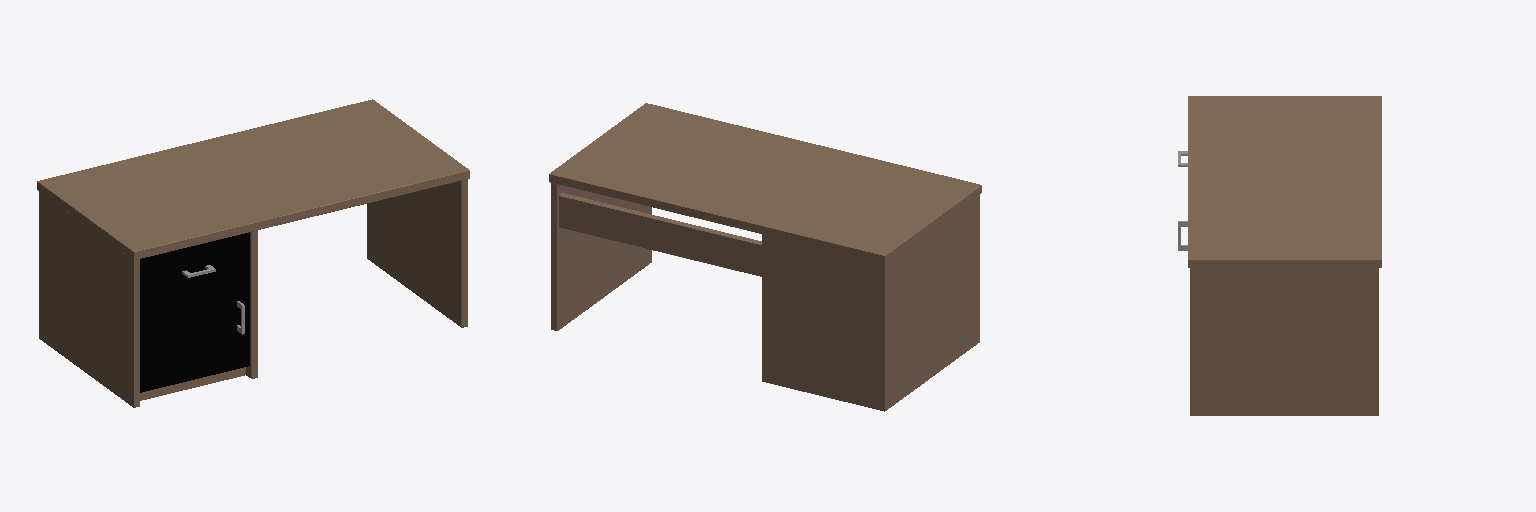
The model's file is desk_model1.obj.
The picture shows the model from 3 angles: view 1: azimuth 30°, elevation 25°; view 2: azimuth 150°, elevation 25°; view 3: azimuth 270°, elevation 25°; orthographic projection.
Parts seen in each view (by area): view 1: Desk, Door2, Door1; view 2: Desk; view 3: Desk.
Part boxes in pixels (left/top/right/bottom): Desk: left=37, top=99, right=469, bottom=407; Door2: left=140, top=285, right=249, bottom=392; Door1: left=140, top=232, right=249, bottom=310; Desk: left=549, top=103, right=981, bottom=411; Desk: left=1188, top=96, right=1381, bottom=415.
Size of the model in its own units: 4 by 1.79 by 2.1.